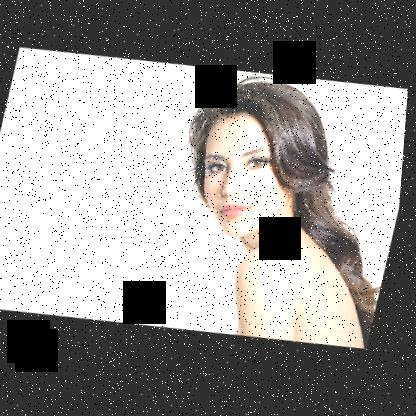Female: (189, 104, 307, 248)
